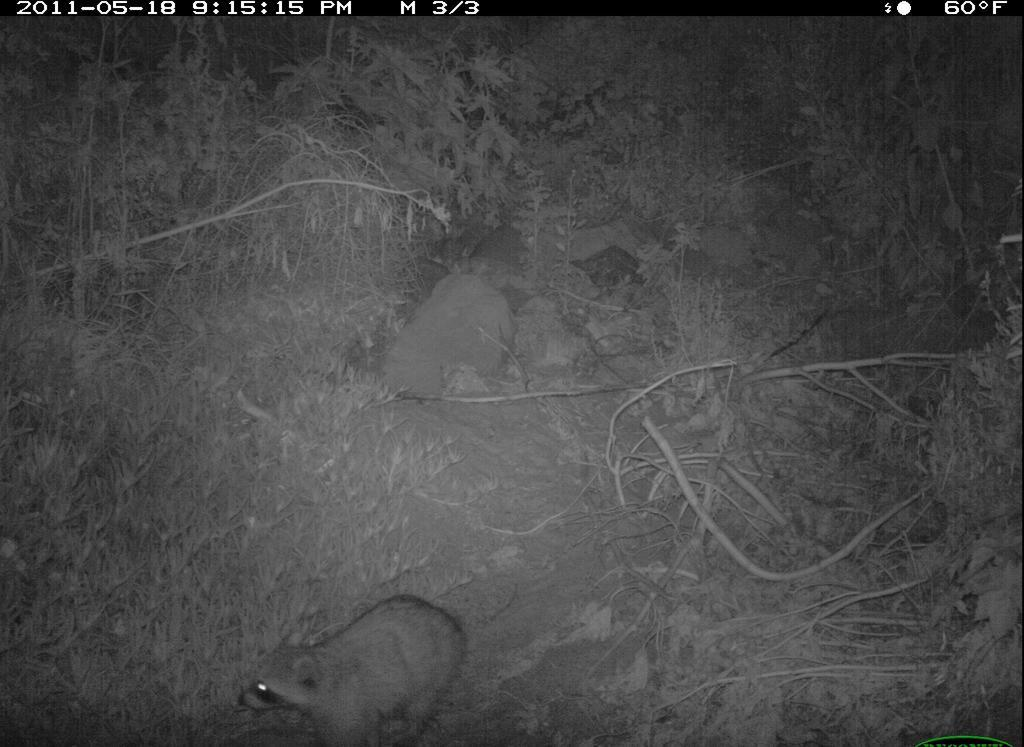raccoon: (225, 587, 520, 745)
